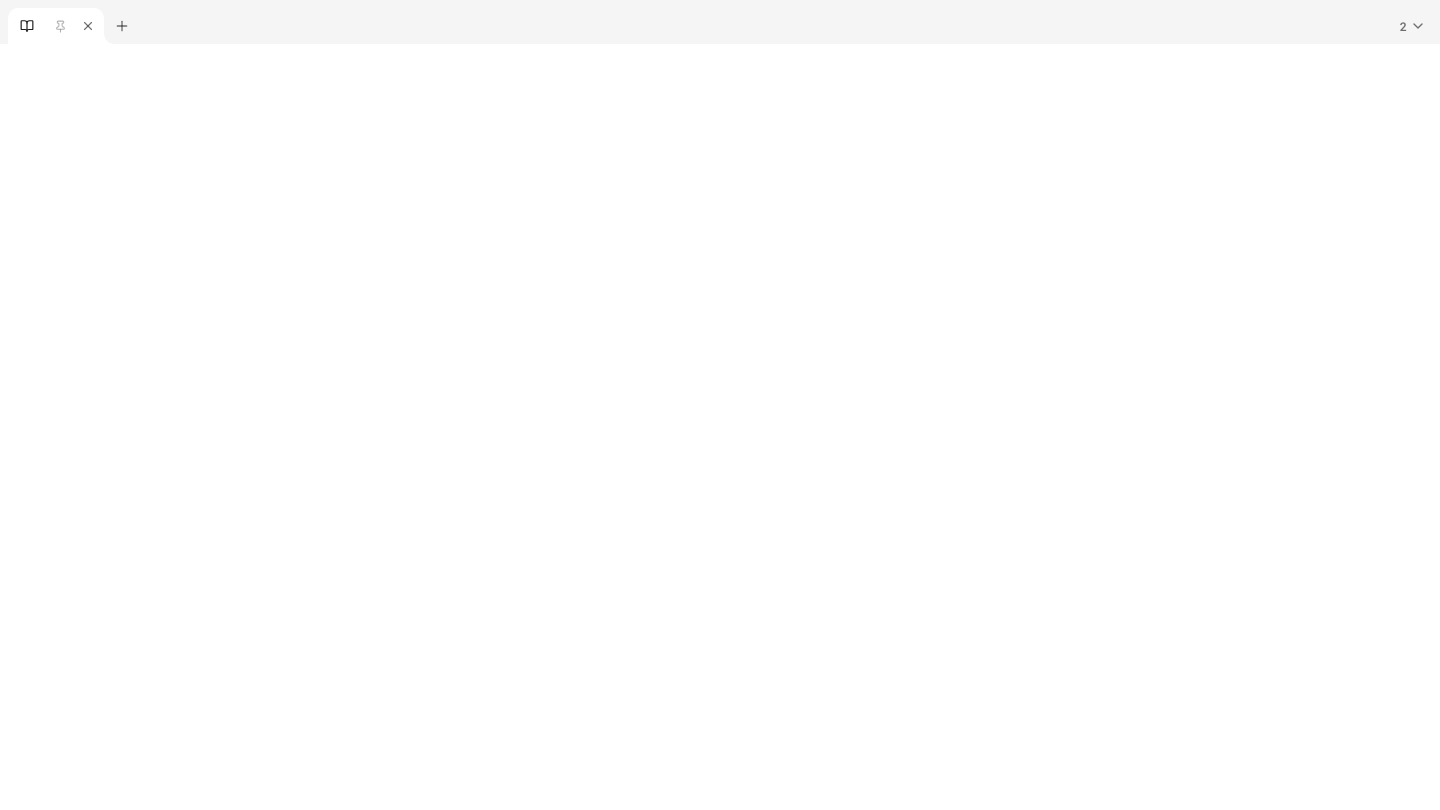
TabStrip · 右键菜单(§3.4) › Esc / 点外面关菜单
Right-click the tab named "月度台账".
right_click(56, 26)  # box [8, 8, 104, 44]
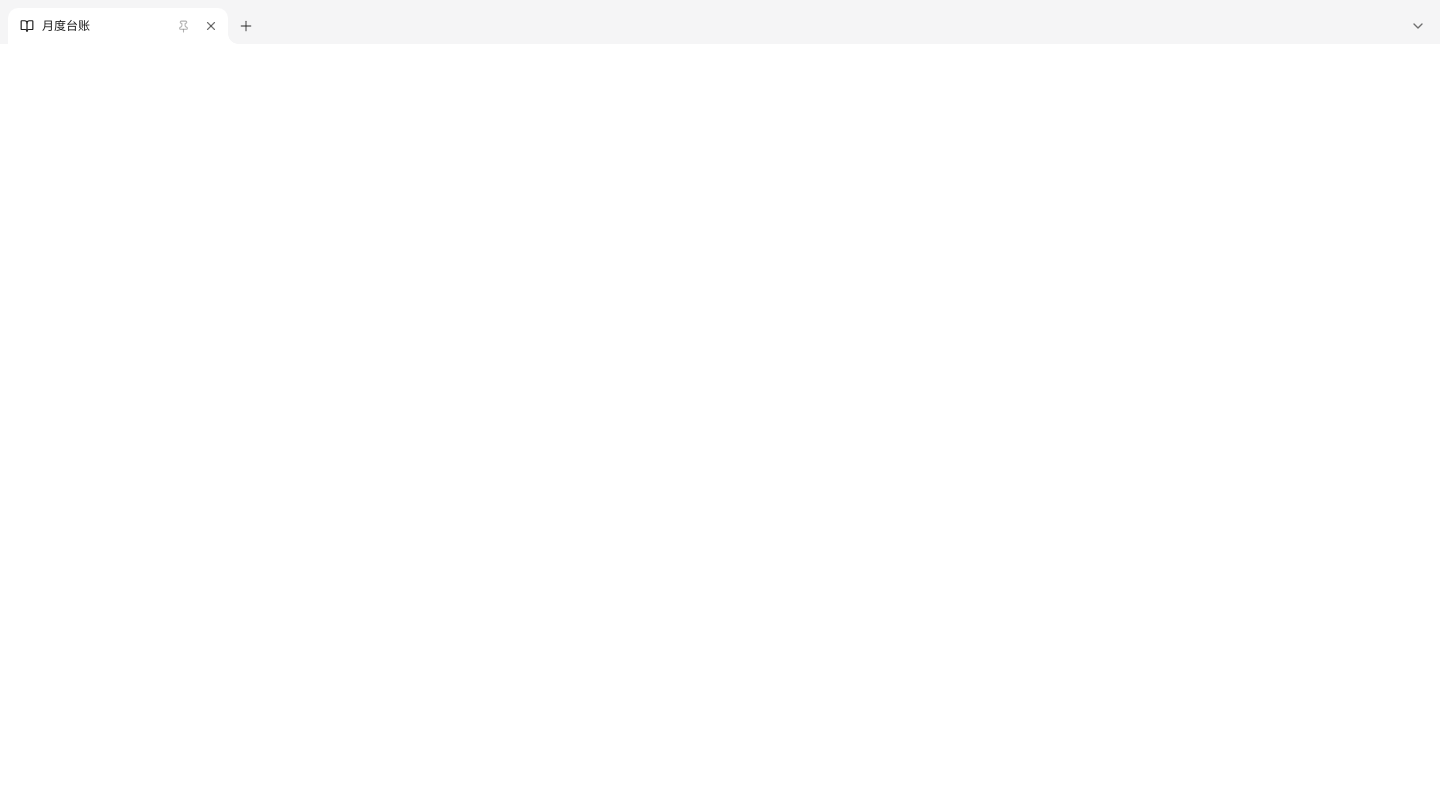
Right-click the tab "月度台账".
right_click(118, 26)  # box [8, 8, 228, 44]
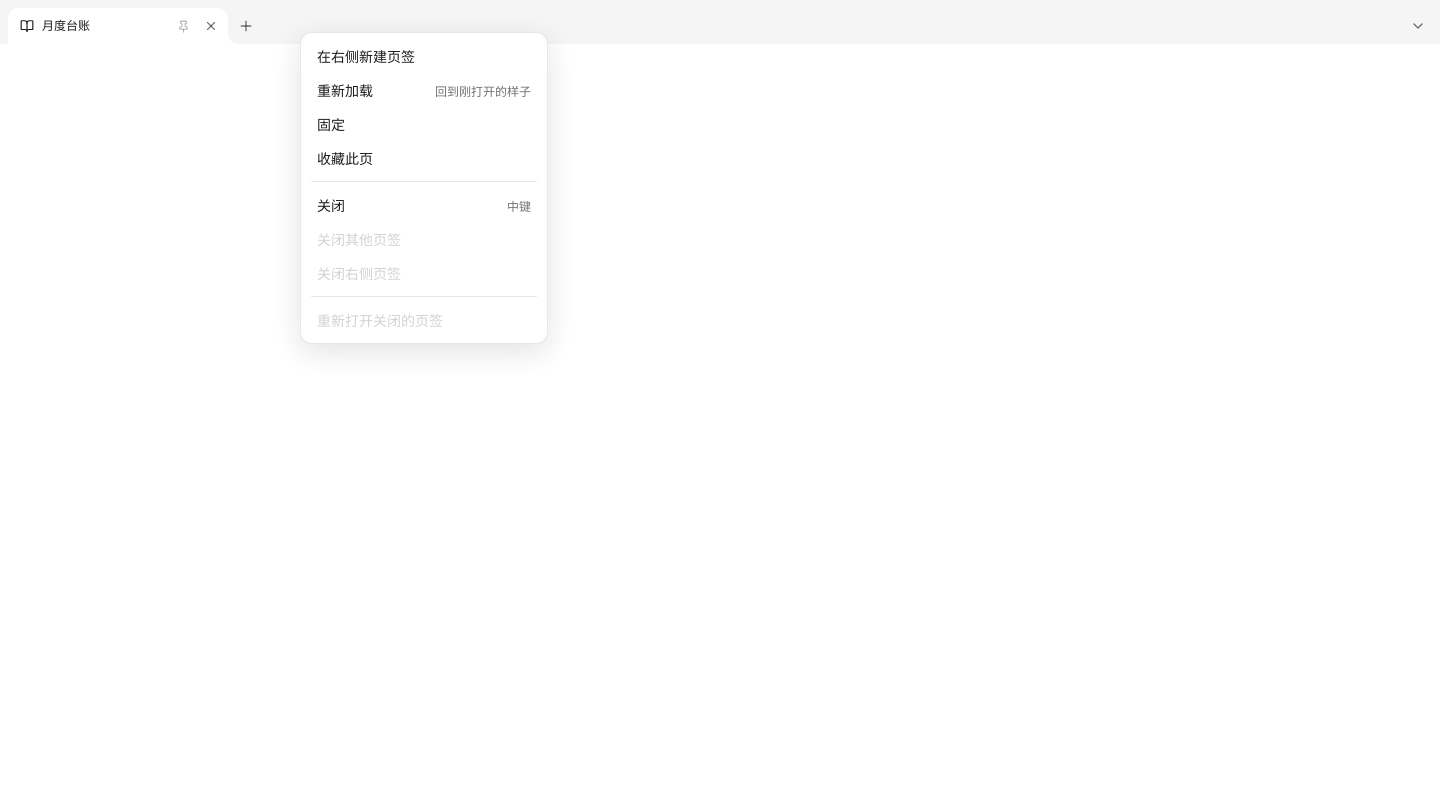
Press the mouse on the element that starts with "月度台账" at (720, 405), box [0, 0, 1439, 809]
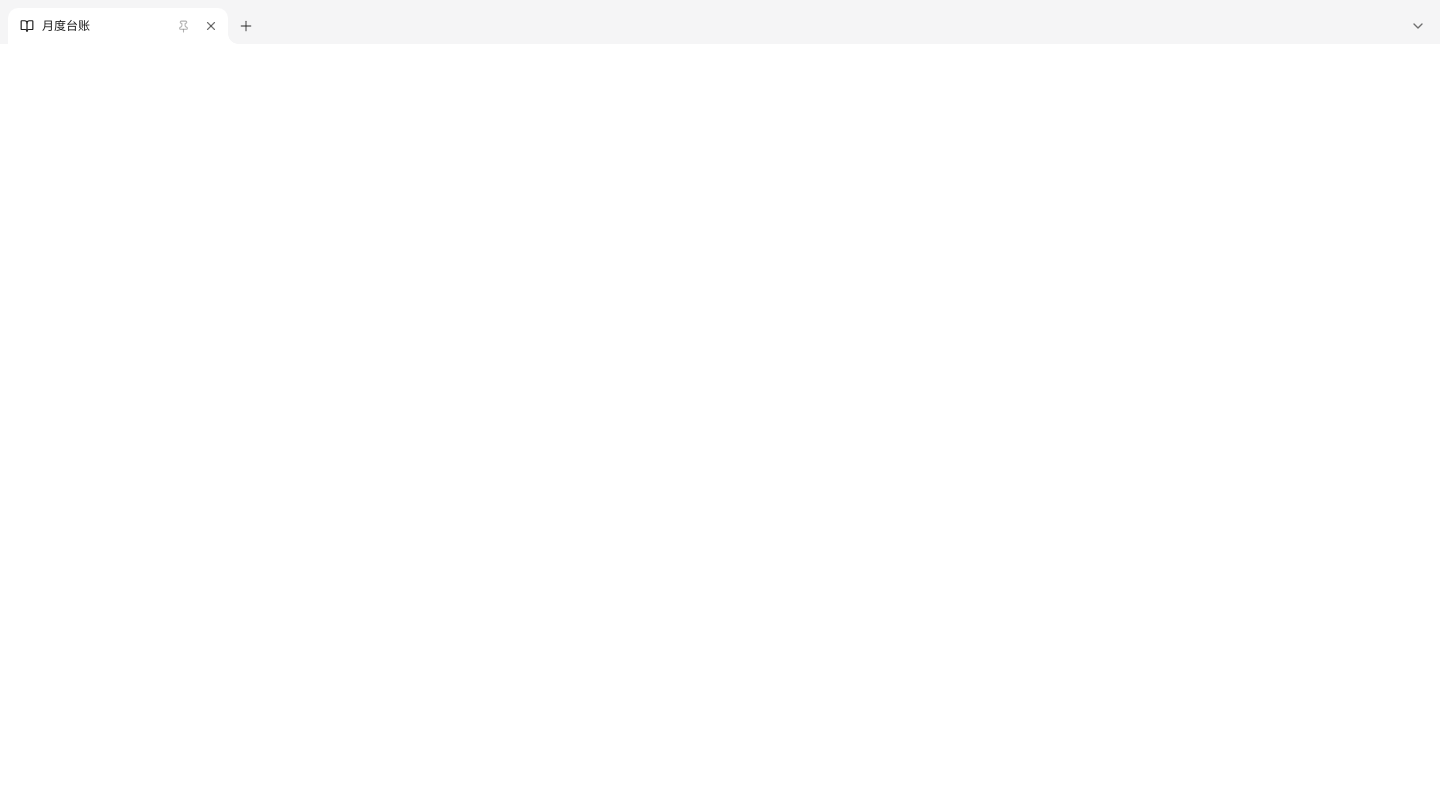
Result: the menu with class "fp-tab-menu" is gone
